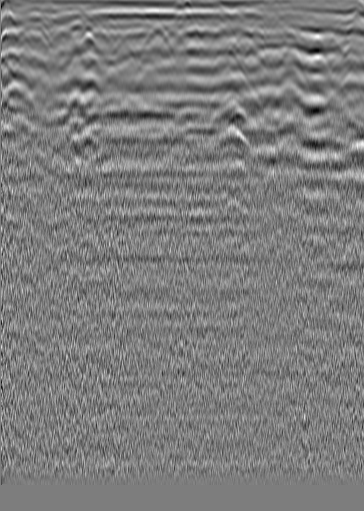가스: (206, 124, 253, 153)
상수: (305, 30, 325, 50)
오수: (16, 19, 54, 45)
우수: (139, 23, 173, 54)
